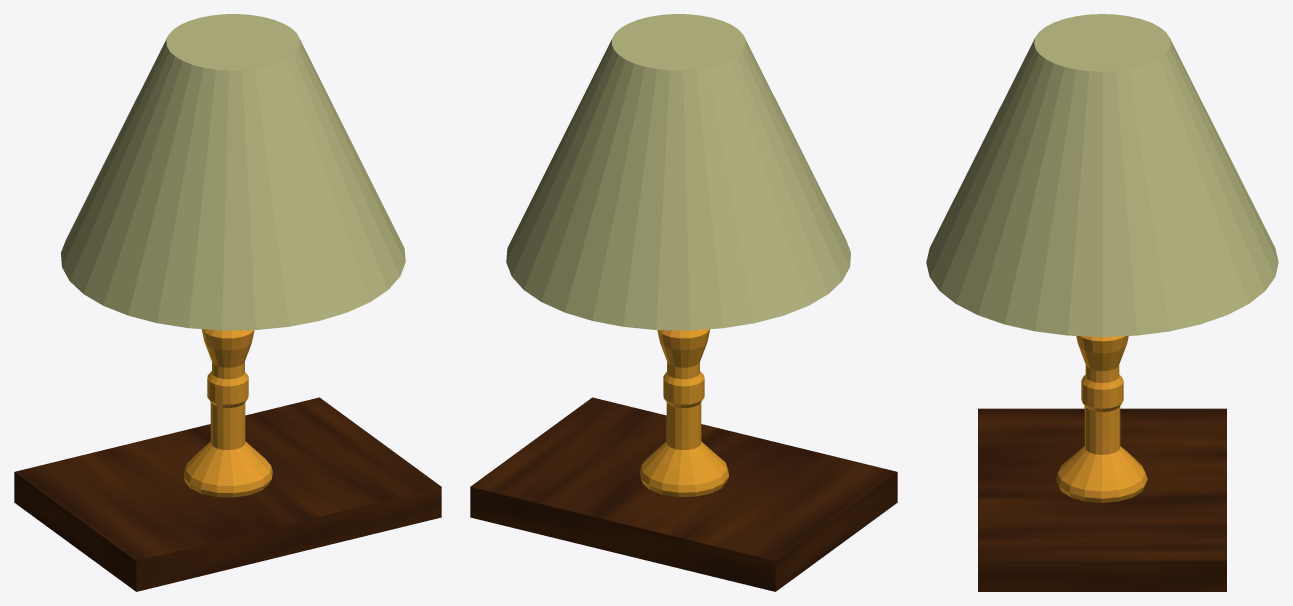
File: Lamp_3.fbx
3 views of the same model, side by side, from view 1: azimuth 30°, elevation 25°; view 2: azimuth 150°, elevation 25°; view 3: azimuth 270°, elevation 25° (orthographic).
Visible parts, largest first — view 1: Circle, Cube, Cylinder; view 2: Circle, Cube, Cylinder; view 3: Circle, Cube, Cylinder.
Boxes of the visible parts, x1,y1,x2,y2 form: Circle: [61, 14, 405, 330]; Cube: [14, 397, 441, 591]; Cylinder: [183, 329, 272, 497]; Circle: [506, 14, 850, 330]; Cube: [470, 397, 897, 591]; Cylinder: [639, 329, 728, 496]; Circle: [926, 14, 1278, 336]; Cube: [978, 408, 1226, 591]; Cylinder: [1056, 336, 1147, 502].
Size of the model in its own units: 1260 by 1826 by 1226.
